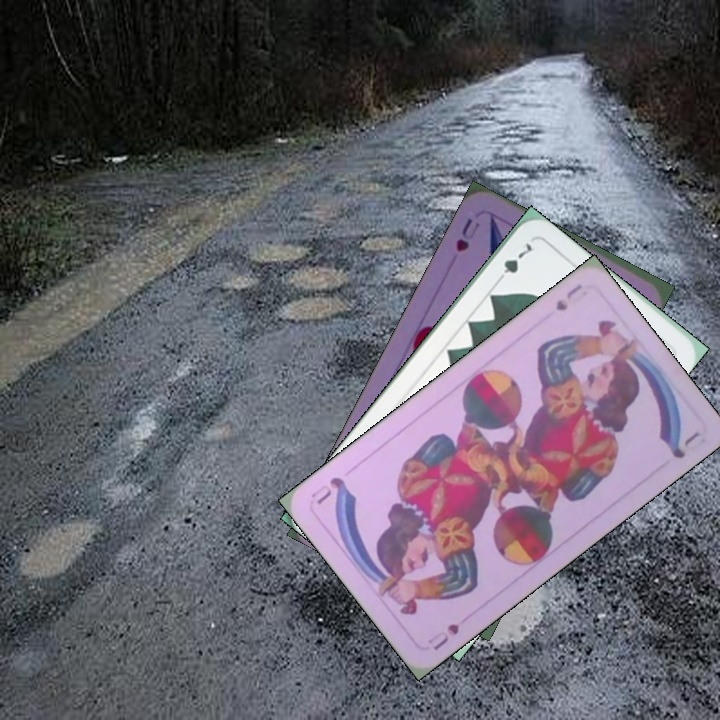G7: (491, 238, 538, 287)
HU: (451, 214, 482, 255)
SU: (424, 619, 462, 653), (551, 280, 585, 314)
